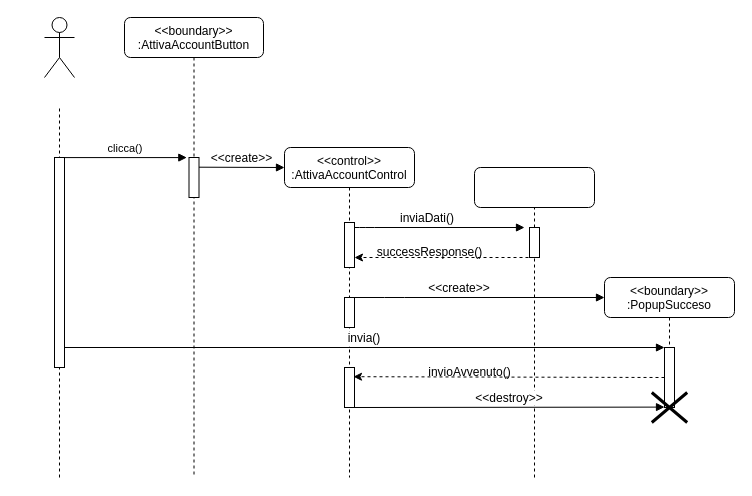
The diagram is 752 pixels wide and 496 high, and some of its shapes have lost their labels. The box of each missing label's shape, as (x1, y1, x2, y2) in pixels:
:Amministratore: (44, 16, 74, 78)
<<entity>> :Blockchain: (474, 166, 594, 208)
